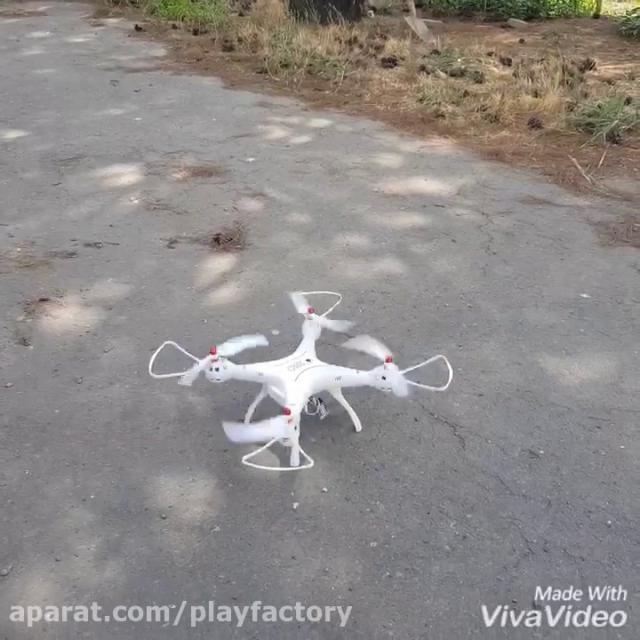drone: (144, 285, 456, 473)
